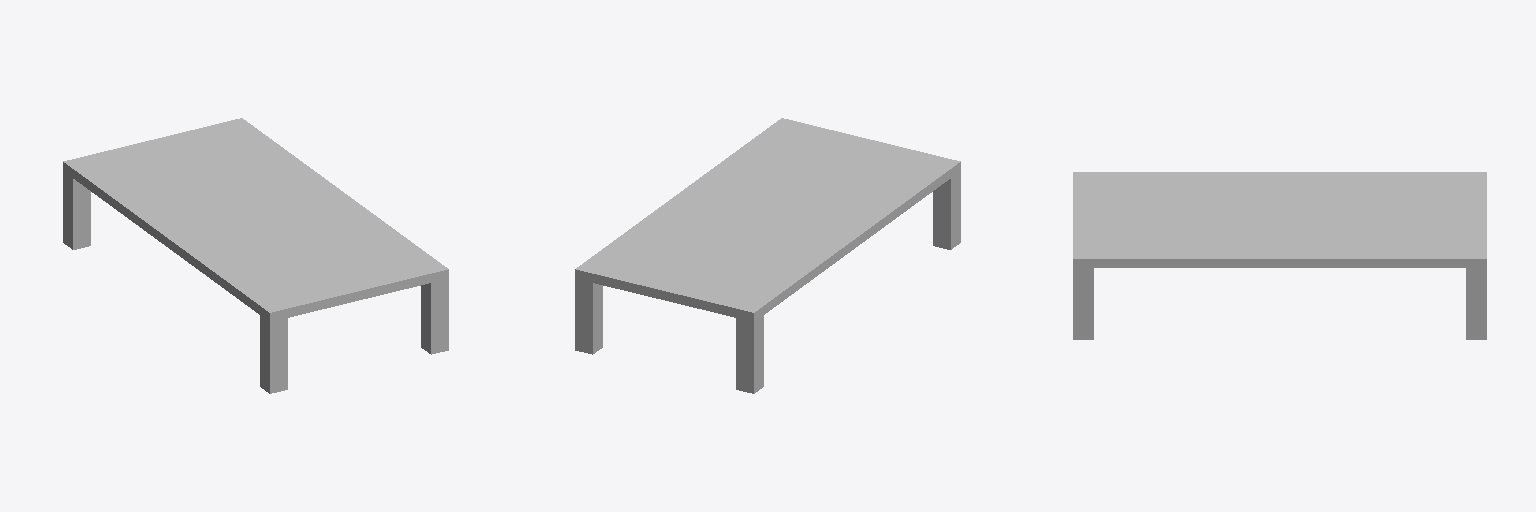
Rendered from TableLarge.obj.
The picture shows the model from 3 angles: view 1: azimuth 30°, elevation 25°; view 2: azimuth 150°, elevation 25°; view 3: azimuth 270°, elevation 25°; orthographic projection.
Parts seen in each view (by area): view 1: LargeTable; view 2: LargeTable; view 3: LargeTable.
Boxes of the visible parts, x1=… form: LargeTable: x1=63, y1=118, x2=448, y2=393; LargeTable: x1=575, y1=118, x2=960, y2=393; LargeTable: x1=1073, y1=172, x2=1486, y2=339.
Size of the model in its own units: 2 by 0.866 by 4.